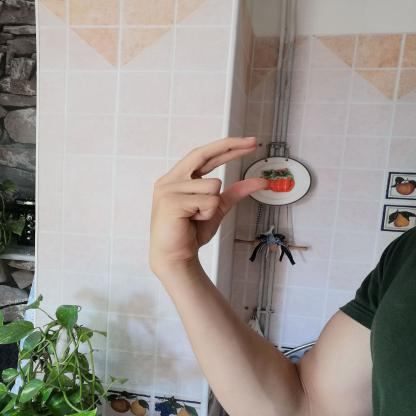DHELL: (138, 129, 280, 266)
